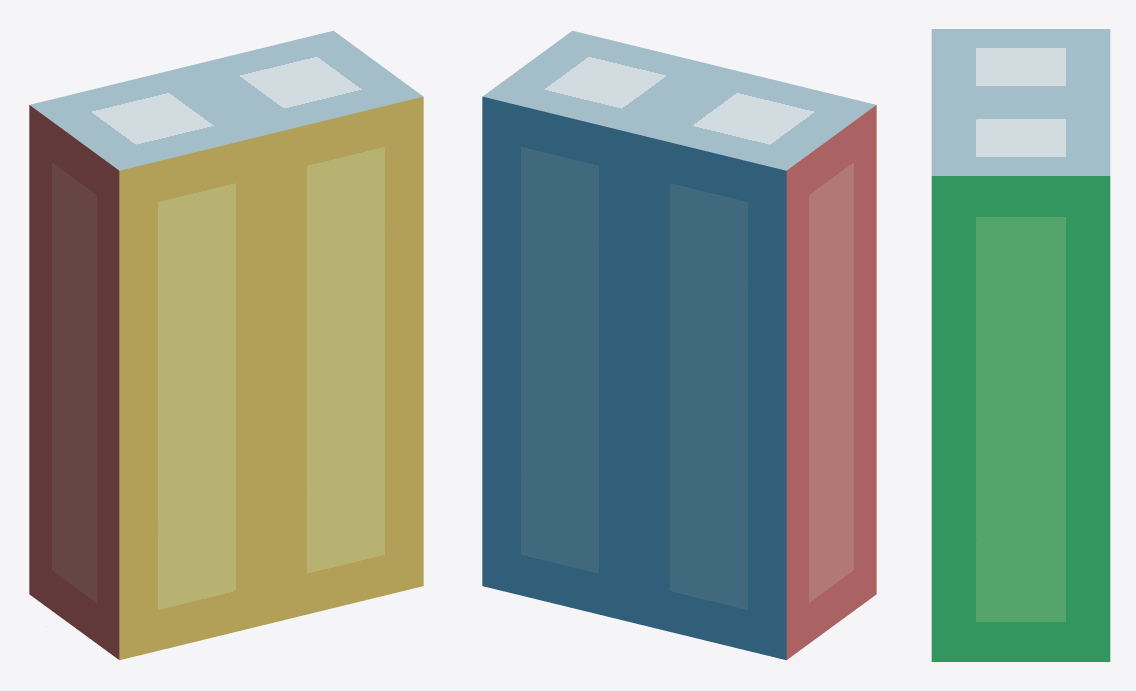
Rendered from pant.obj.
3 views of the same model, side by side, from view 1: azimuth 30°, elevation 25°; view 2: azimuth 150°, elevation 25°; view 3: azimuth 270°, elevation 25° (orthographic).
Parts seen in each view (by area): view 1: Left Leg, Right Leg; view 2: Left Leg, Right Leg; view 3: Right Leg, Left Leg.
Boxes of the visible parts, <box> form: Left Leg: <box>29,69,274,660</box>; Right Leg: <box>178,30,423,623</box>; Left Leg: <box>630,69,876,660</box>; Right Leg: <box>482,30,727,623</box>; Right Leg: <box>931,101,1110,661</box>; Left Leg: <box>931,29,1110,104</box>.
Size of the model in its own units: 0.5188 by 0.7812 by 0.2812.
1 material, 1 textured.
